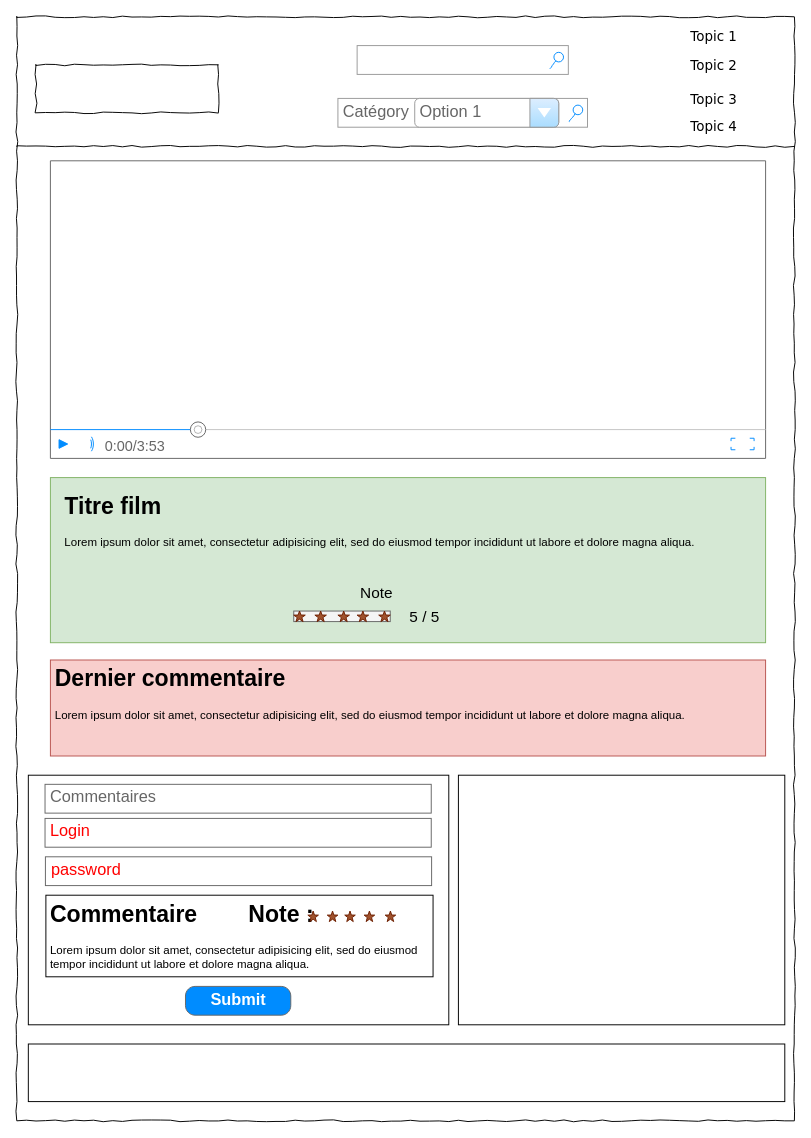
Image size: 811x1138. Some labels were removed from this diagram. The centre of each missing label's shape, as x and y in pixels:
Acteurs: [462,59]
FOOTER / Mentions Légales: [406,1072]
LOGO: [126,88]
ZONE PROMOTIONNELLE: [621,899]
